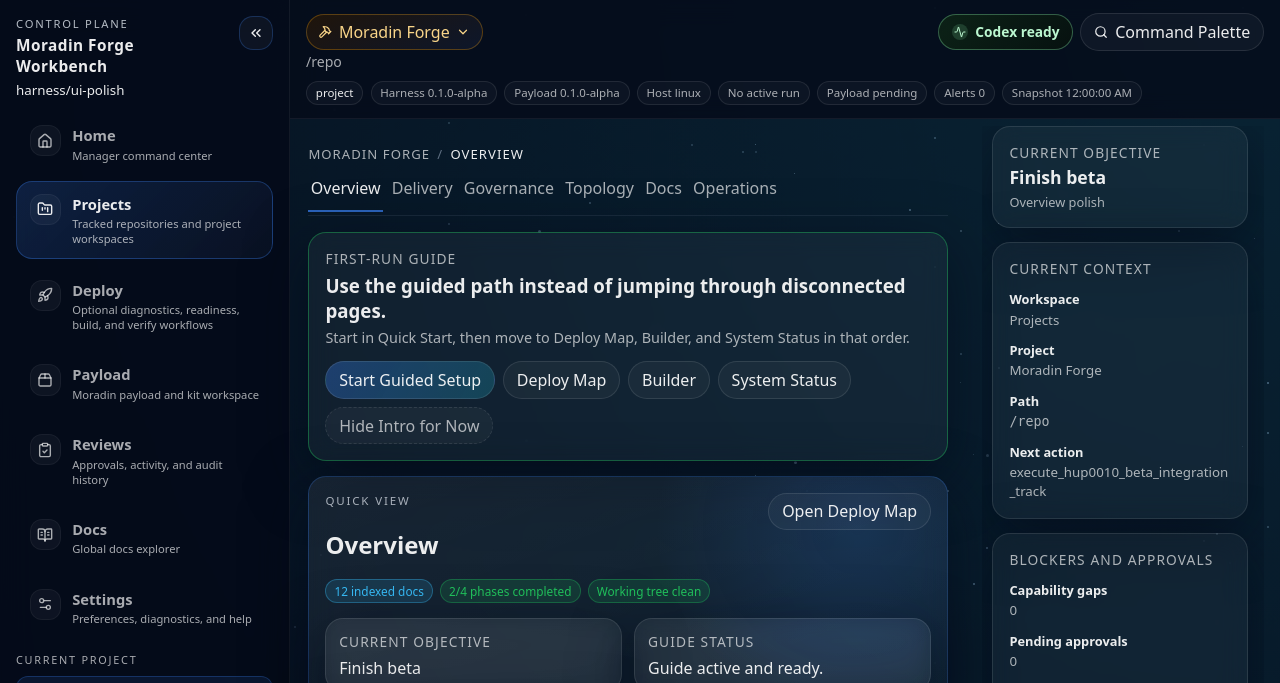
overview page › switches project workspace overview data between manager and tracked repos
Check: the text "Quick View" is shown, box [325,493,410,508]
Check: the 1st text "/repo" is shown, box [306,52,342,71]
What coordinates should you click on to do the following:
click the button with aria-label "Switch project"
I would click on:
 (394, 32)
Its box is [306,14,483,50].
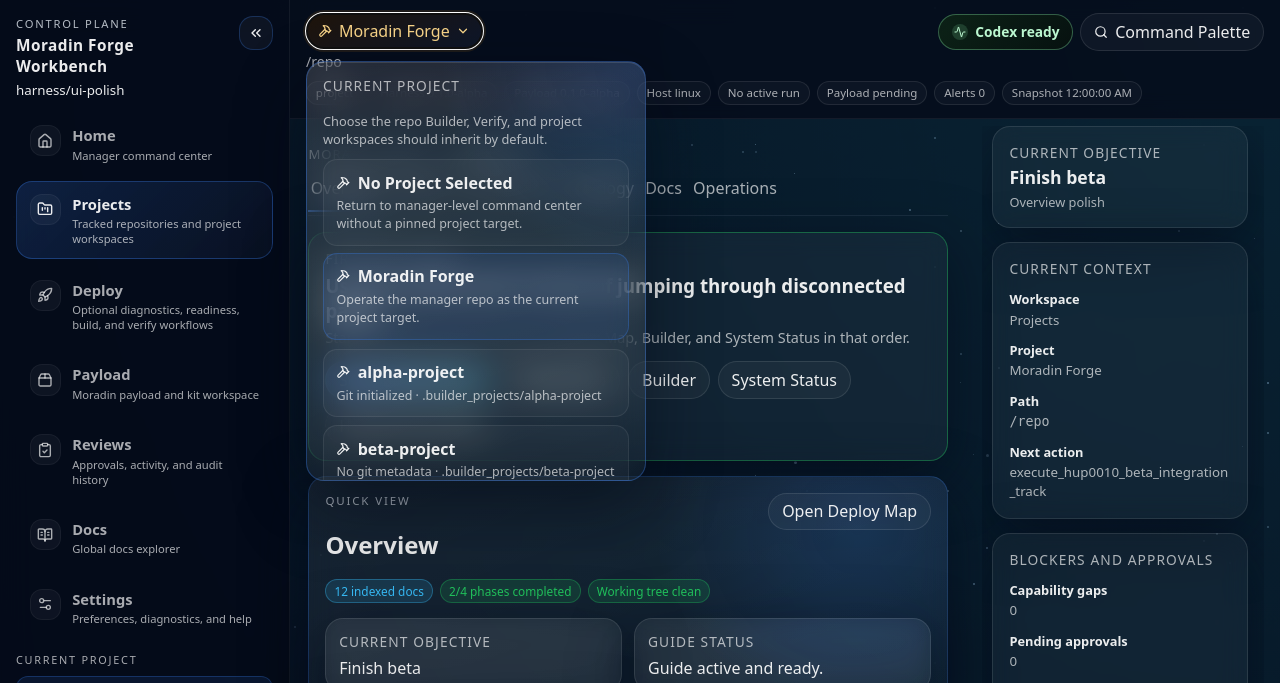
What coordinates should you click on to do the following:
click the button "beta-project"
I would click on:
 (407, 449)
Its box is [323,425,629,494].
(page scrolled)
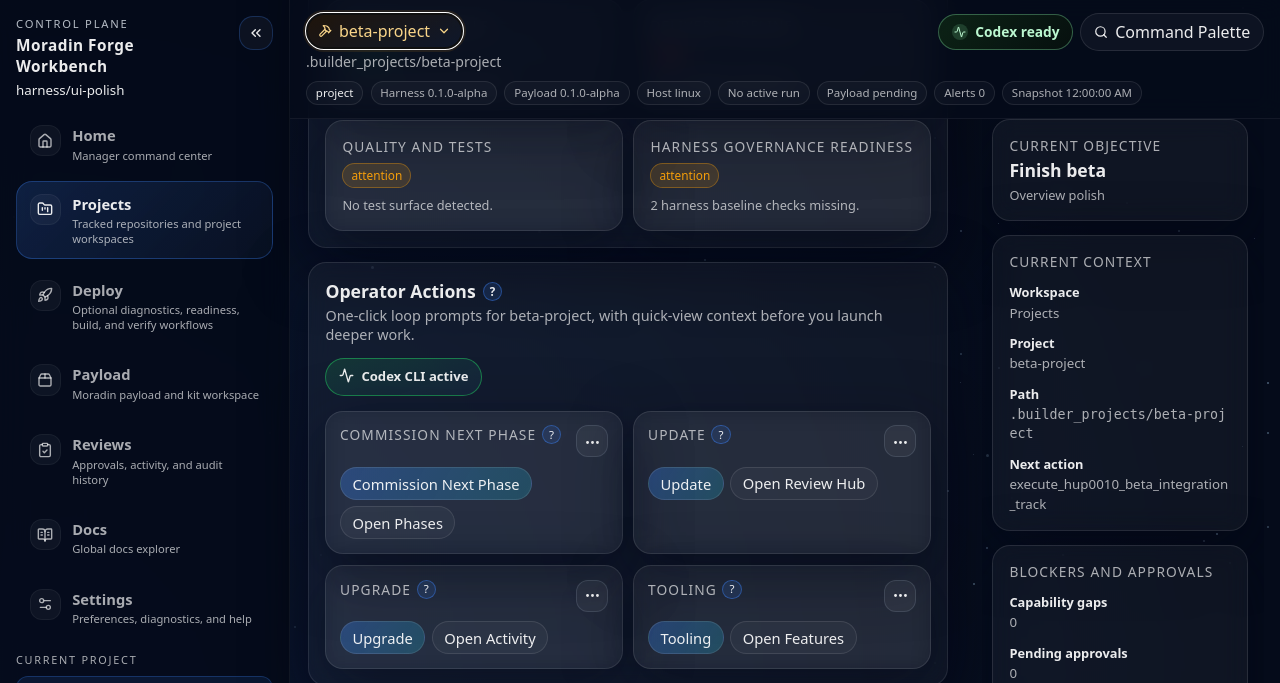
Check: the button with aria-label "Codex CLI runtime status" is shown, box [325,358,482,396]
Check: the 1st text ".builder_projects/beta-project" is shown, box [306,52,501,71]
What coordinates should you click on to do the following:
click the button "Update"
I would click on:
 (686, 484)
Its box is [648,468,724,500].
(page scrolled)
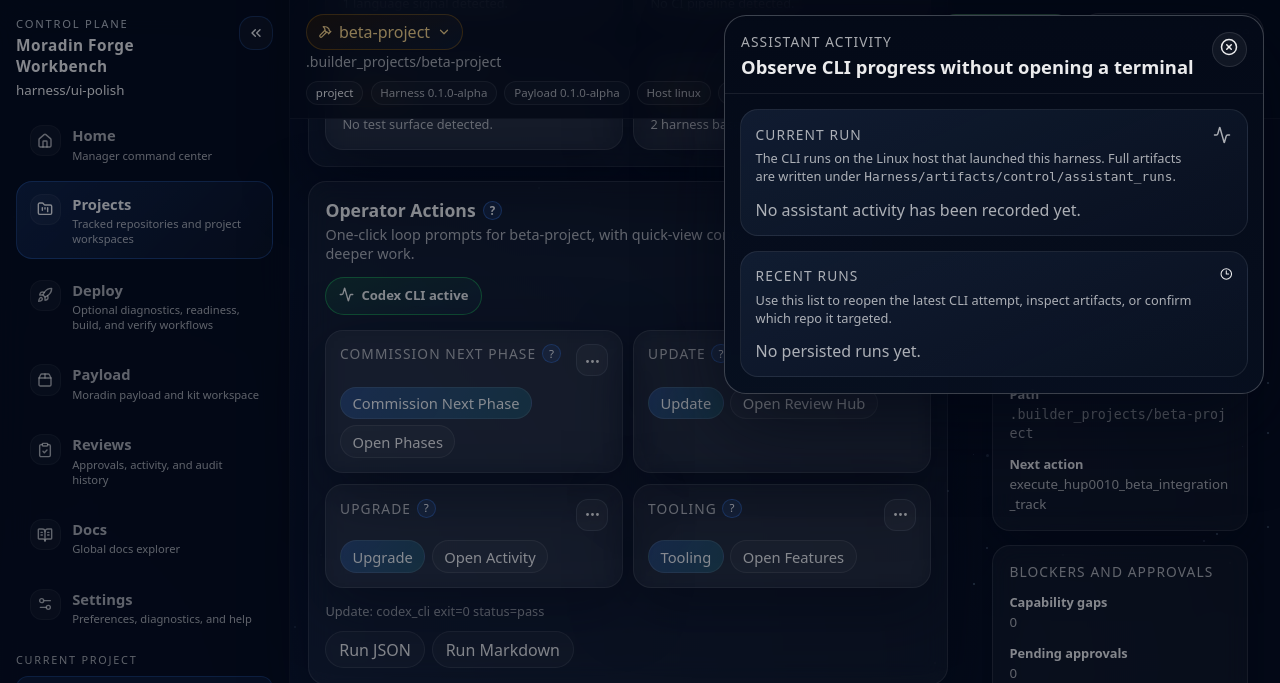
Check: the text "Update: codex_cli exit=0 status=pass" is shown, box [325,602,544,620]
Check: the link "Run JSON" is shown, box [325,631,425,668]
